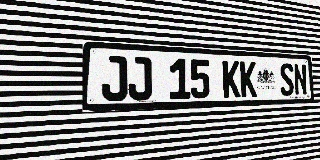1: (169, 58, 190, 99)
5: (190, 59, 210, 99)
J: (102, 55, 127, 101), (128, 56, 152, 101)
K: (222, 60, 240, 98), (240, 61, 257, 97)
N: (293, 63, 307, 96)
S: (279, 63, 294, 96)
